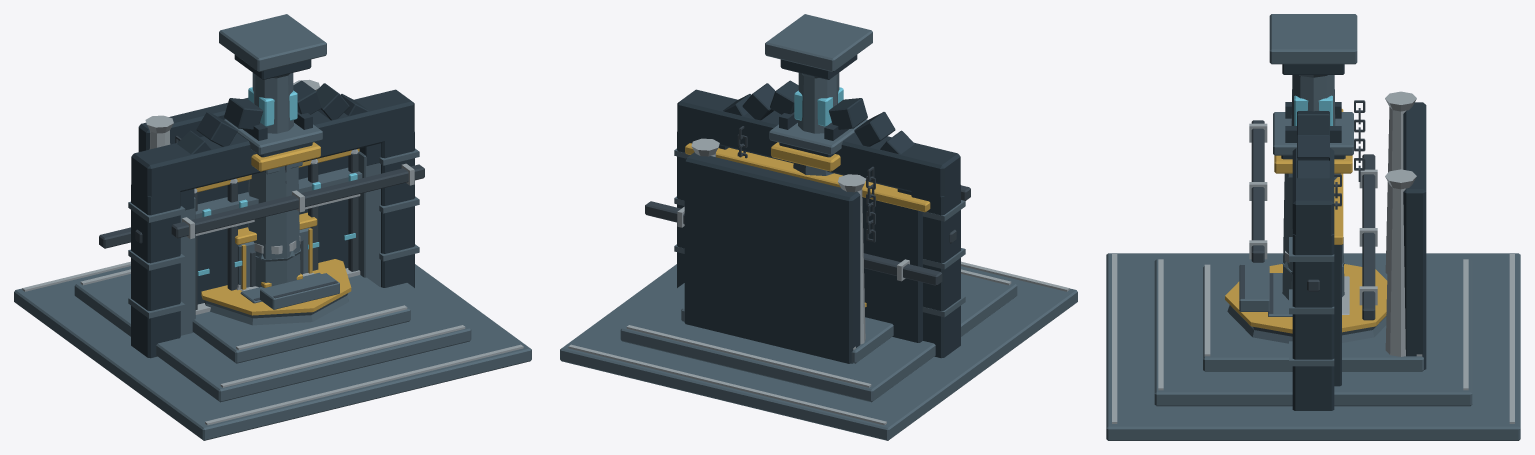
Rendered from dungeon-props.glb.
The picture shows the model from 3 angles, left to right: view 1: azimuth 30°, elevation 25°; view 2: azimuth 150°, elevation 25°; view 3: azimuth 270°, elevation 25°; orthographic projection. The views are drawn at different scales.
Parts seen in each view (by area): view 1: dais, doorframe, arch, grand_column, pillar, hub_wall, pipes, stairs, hub_trophy, doorbarrier, hub_readout, hub_column; view 2: dais, stairs, doorframe, hub_wall, grand_column, arch, pillar, pipes, hub_column, chains; view 3: dais, stairs, doorframe, grand_column, pipes, hub_trophy, pillar, arch, hub_wall, chains, hub_column.
Boxes of the visible parts, x1,y1,x2,y2 form: dais: (14,261,531,440); doorframe: (128,89,419,358); arch: (177,80,381,335); grand_column: (219,14,326,254); pillar: (224,112,322,287); hub_wall: (196,148,359,304); pipes: (99,163,424,248); stairs: (138,79,339,309); hub_trophy: (201,259,351,325); doorbarrier: (194,149,360,314); hub_readout: (235,212,317,289); hub_column: (251,142,320,171); dais: (560,261,1077,440); stairs: (684,138,865,363); doorframe: (674,89,965,358); hub_wall: (685,143,930,342); grand_column: (765,14,872,133); arch: (718,80,914,194); pillar: (769,112,867,175); pipes: (645,185,970,285); hub_column: (771,142,840,171); chains: (737,126,875,242); dais: (1106,253,1520,440); stairs: (1239,91,1426,369); doorframe: (1287,148,1334,410); grand_column: (1269,14,1357,263); pipes: (1249,120,1377,320); hub_trophy: (1225,264,1387,343); pillar: (1273,102,1353,299); arch: (1294,95,1332,178); hub_wall: (1334,109,1343,386); chains: (1334,100,1365,209); hub_column: (1274,155,1352,173).
Size of the model in its own units: 9 by 9.21 by 9.
